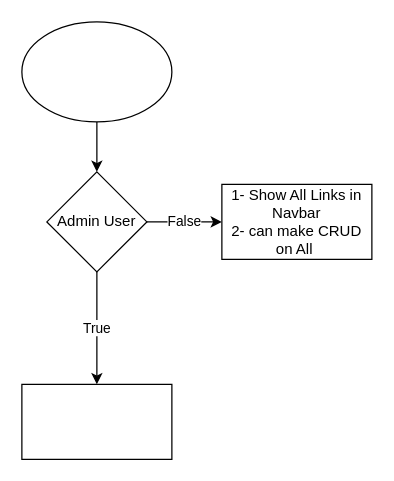
The diagram is 394 pixels wide and 481 high, and some of its shapes have lost their labels. The centre of each missing label's shape, as x and y in pixels:
"User Open the website delete Home page" goes at point 96,71.
"will show only submit suggetins even if he not login" goes at point 96,421.
